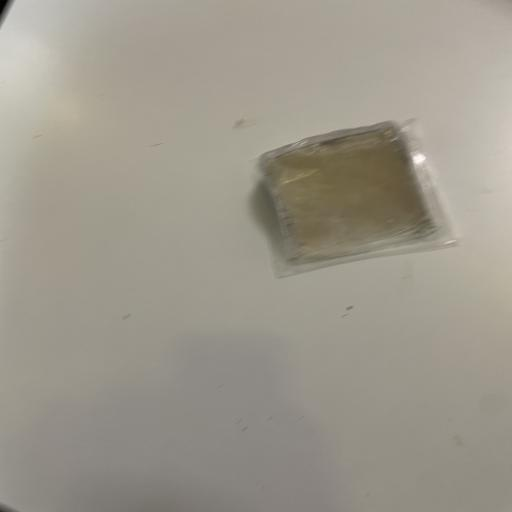cured_goat_cheese: (240, 118, 450, 273)
